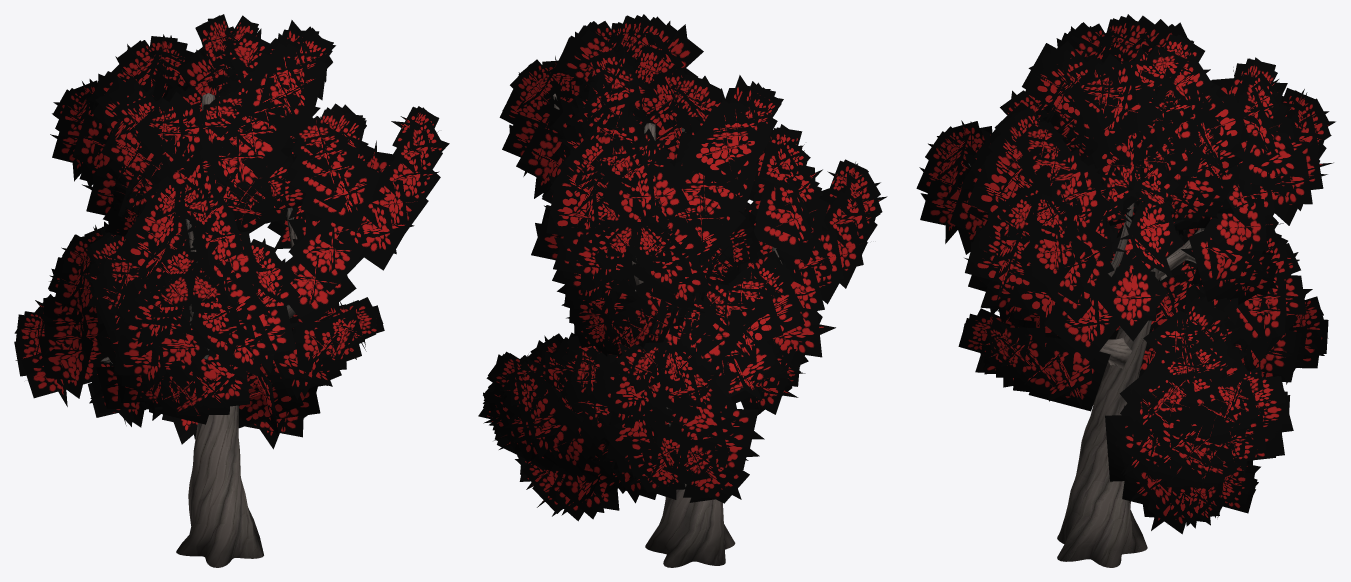
Rendered from twistedtree_3.gltf.
3 renders of one model, left to right at view 1: azimuth 30°, elevation 25°; view 2: azimuth 150°, elevation 25°; view 3: azimuth 270°, elevation 25°, orthographic. The views are drawn at different scales.
Visible parts, largest first — view 1: TwistedTree_3; view 2: TwistedTree_3; view 3: TwistedTree_3.
Part boxes in pixels (<box>): TwistedTree_3: <box>14,14,449,567</box>; TwistedTree_3: <box>478,14,887,567</box>; TwistedTree_3: <box>916,14,1335,567</box>.
Bounding box in the file's own units: 11.36 × 16.07 × 11.51.
Materials: 2 (2 with a texture image).
